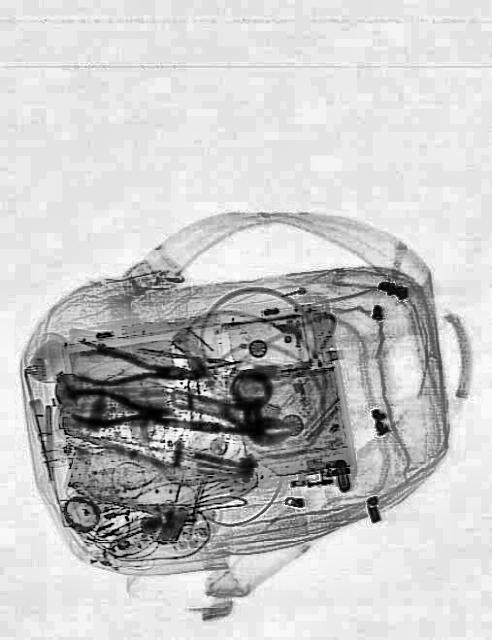Pliers: (75, 343, 203, 392), (64, 383, 174, 433)
Wrench: (184, 406, 292, 446)
